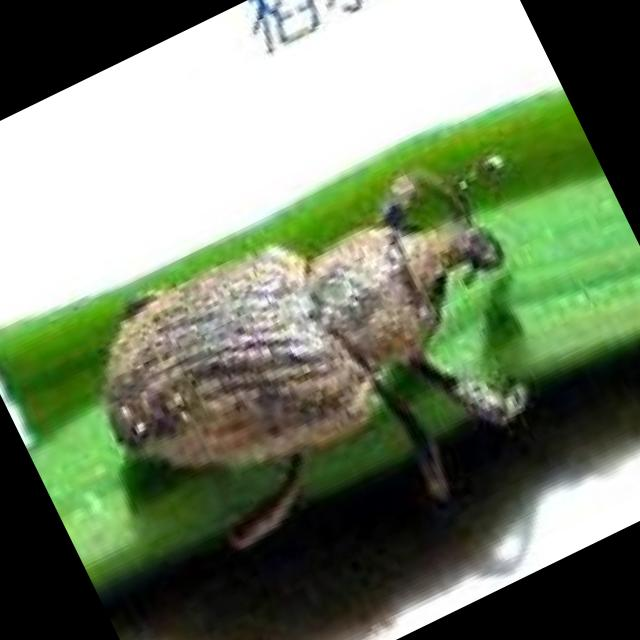rice-bug: (60, 140, 572, 580)
